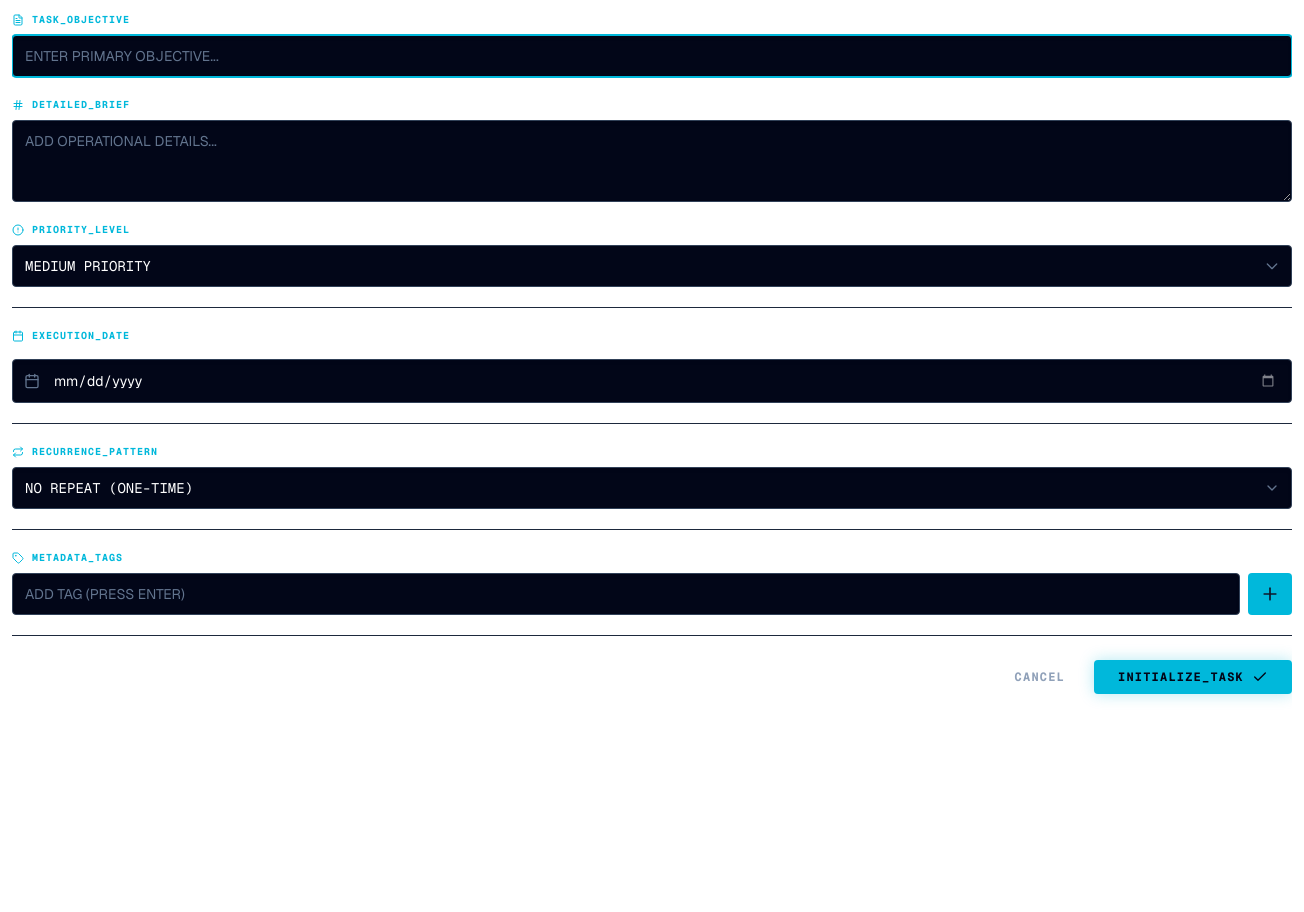
Test: TaskForm Component › Tags Management › adds tag when Enter is pressed
In the field with placeholder "ADD TAG (PRESS ENTER)": coordinates (626, 594) [12, 573, 1240, 615], type "work"
Then press Enter
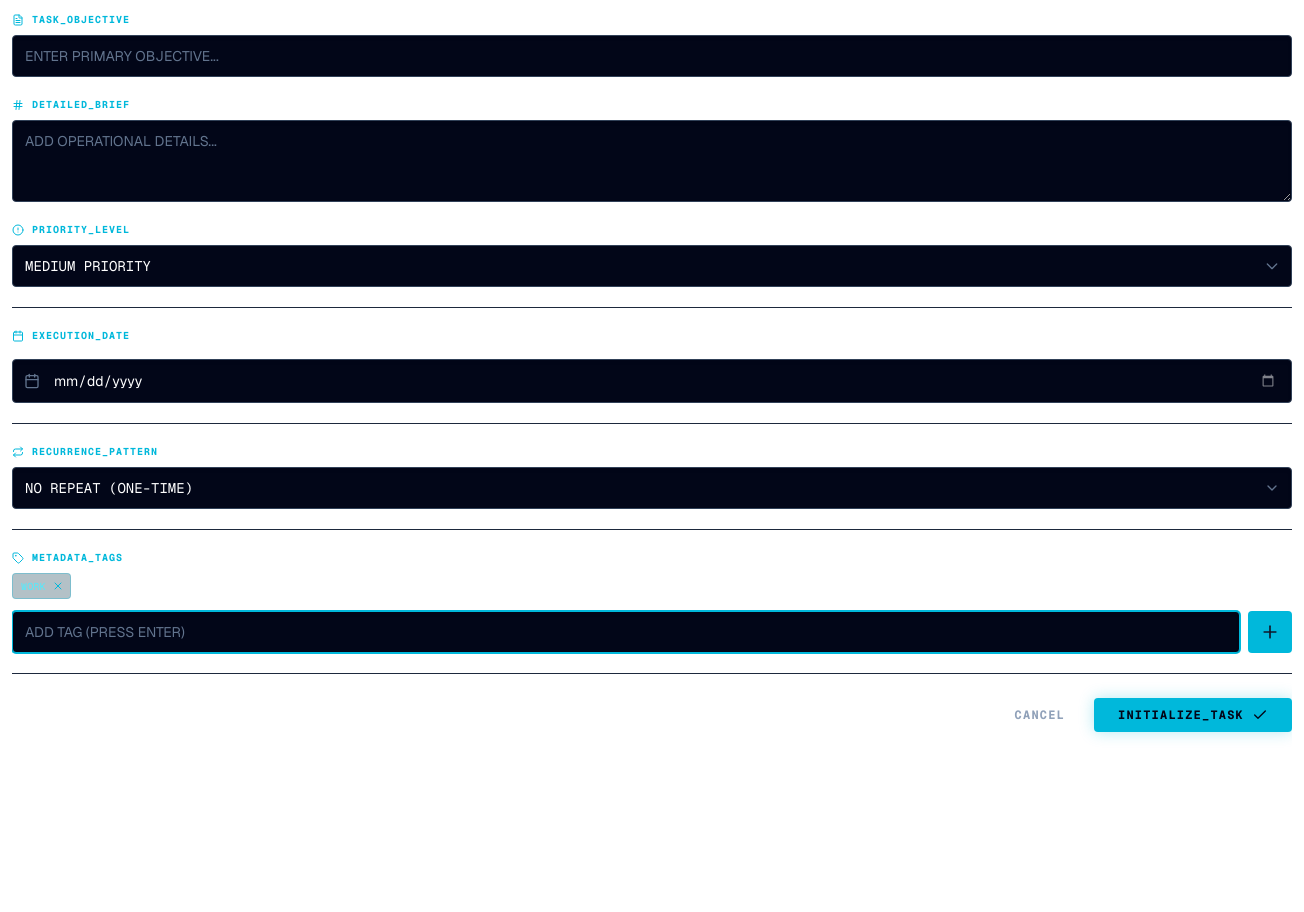
Expected: the field with placeholder "ADD TAG (PRESS ENTER)" is empty, [12, 611, 1240, 653]
Now the text "work" is shown, box [12, 573, 71, 599]
